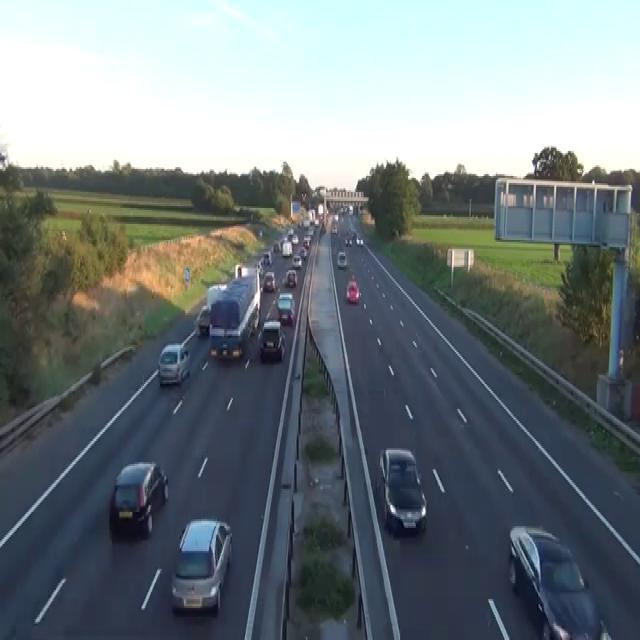Car: (508, 524, 605, 638), (170, 518, 232, 614), (109, 460, 169, 537), (377, 448, 427, 535), (157, 343, 190, 386), (259, 320, 285, 361), (276, 292, 295, 326), (207, 282, 227, 308), (197, 304, 210, 336), (345, 279, 360, 302), (263, 270, 275, 292), (285, 268, 297, 286), (337, 249, 347, 268), (282, 240, 292, 258), (0, 149, 7, 171), (292, 252, 301, 268), (57, 228, 66, 242), (263, 251, 272, 265), (299, 246, 307, 260), (303, 235, 311, 247), (348, 226, 357, 236), (273, 240, 280, 252), (257, 260, 263, 274), (257, 256, 264, 268), (355, 237, 363, 246), (344, 237, 352, 246), (291, 234, 299, 243), (331, 222, 337, 233), (320, 222, 326, 233), (303, 218, 309, 228), (287, 228, 293, 238), (307, 226, 314, 234), (314, 217, 319, 226), (348, 204, 353, 213), (333, 213, 338, 220), (259, 230, 262, 237)
Truck: (208, 263, 260, 359)
